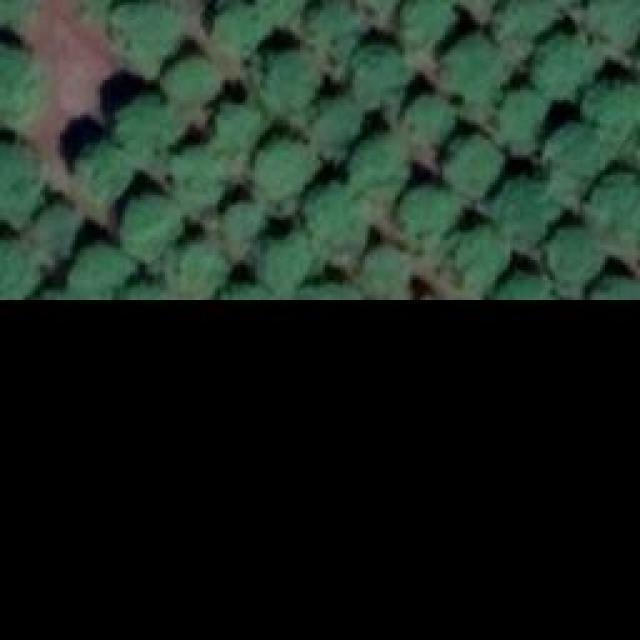Tree: (113, 3, 183, 73), (255, 135, 323, 205), (302, 187, 370, 255), (445, 40, 508, 113), (485, 180, 555, 243), (533, 30, 596, 98), (257, 55, 315, 123), (310, 0, 365, 70), (350, 140, 410, 203), (122, 198, 180, 261), (447, 135, 505, 198), (587, 170, 640, 237), (578, 75, 638, 130), (123, 100, 178, 158), (313, 92, 368, 150), (543, 225, 598, 283), (445, 235, 505, 288), (65, 248, 128, 298), (167, 243, 225, 296), (265, 237, 318, 295), (30, 203, 80, 263), (403, 188, 453, 248), (0, 53, 45, 118), (0, 138, 40, 211), (215, 0, 268, 55), (585, 0, 640, 52), (358, 245, 411, 298), (80, 143, 130, 198), (175, 155, 225, 210), (355, 48, 410, 98), (213, 105, 258, 165), (550, 120, 600, 173), (497, 90, 545, 145), (405, 0, 455, 52), (400, 102, 453, 150), (170, 57, 220, 105), (495, 0, 548, 45), (217, 202, 265, 250), (0, 243, 40, 298), (490, 273, 558, 298), (585, 273, 640, 298), (0, 0, 32, 17)
